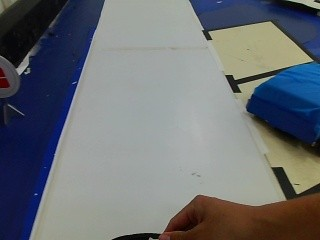car: (250, 60, 318, 156)
